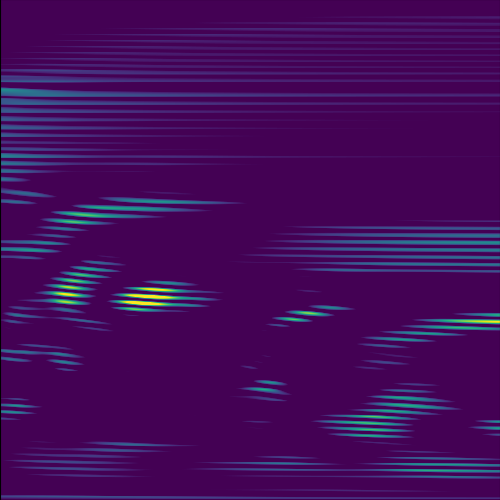semblance: (107, 274, 215, 320)
